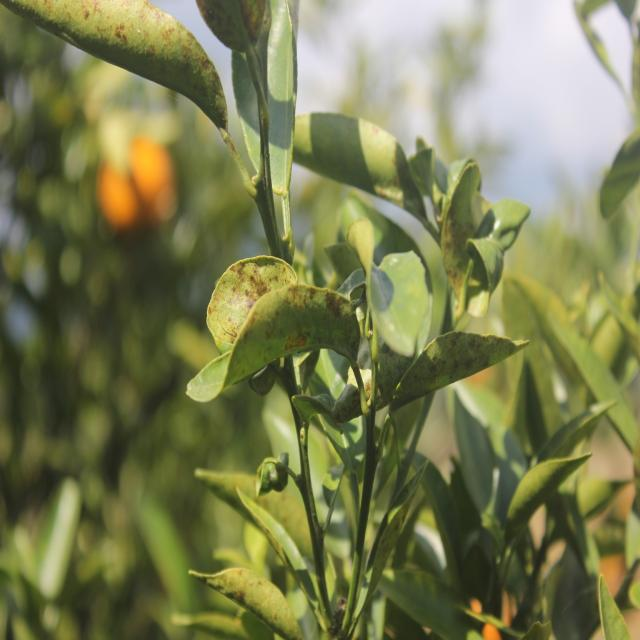melanose: (11, 0, 234, 149), (190, 251, 367, 428), (383, 314, 519, 416), (192, 544, 307, 640), (433, 147, 495, 305), (178, 0, 298, 80)
